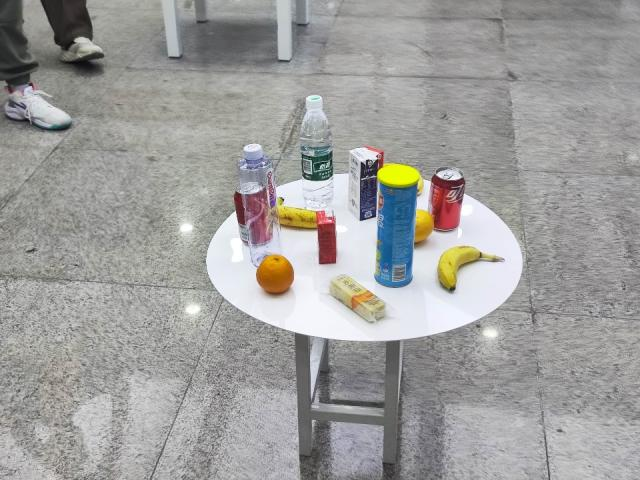Canned_drinks: (430, 165, 464, 232)
bottle: (295, 93, 337, 205)
cylinder: (378, 165, 416, 300)
drink_box: (312, 208, 344, 279), (350, 150, 375, 226)
